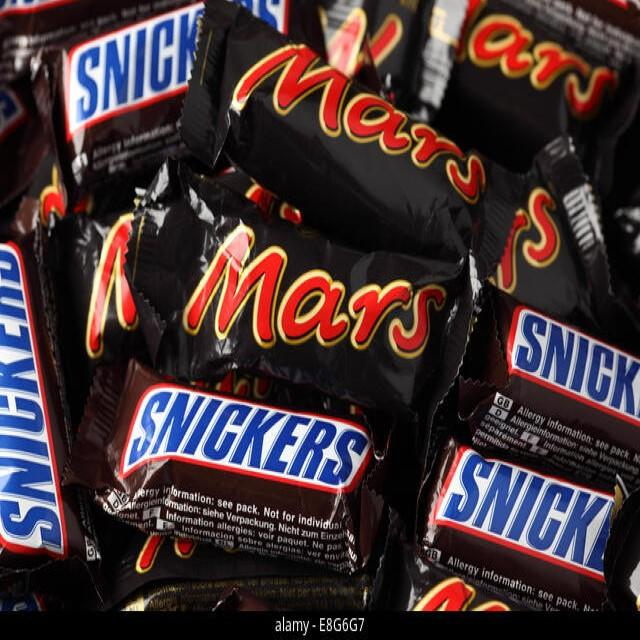mars_chocolate: (247, 7, 485, 242), (202, 217, 446, 370), (423, 0, 631, 156)
snickers_chocolate: (112, 373, 383, 570), (428, 441, 640, 594), (0, 228, 83, 599), (518, 306, 640, 444), (64, 20, 208, 107)
